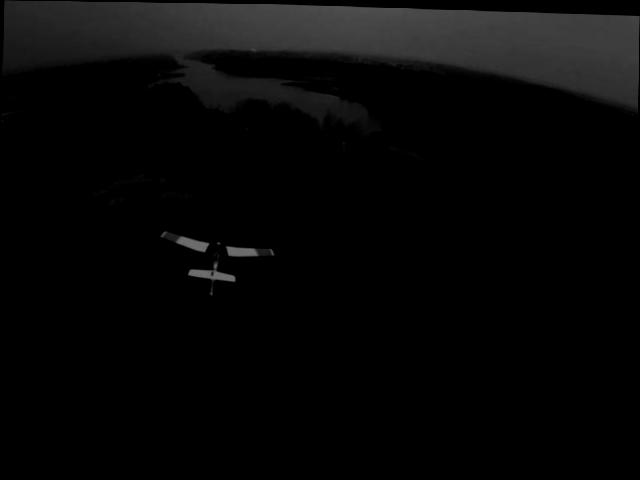hedef: (157, 218, 281, 304)
